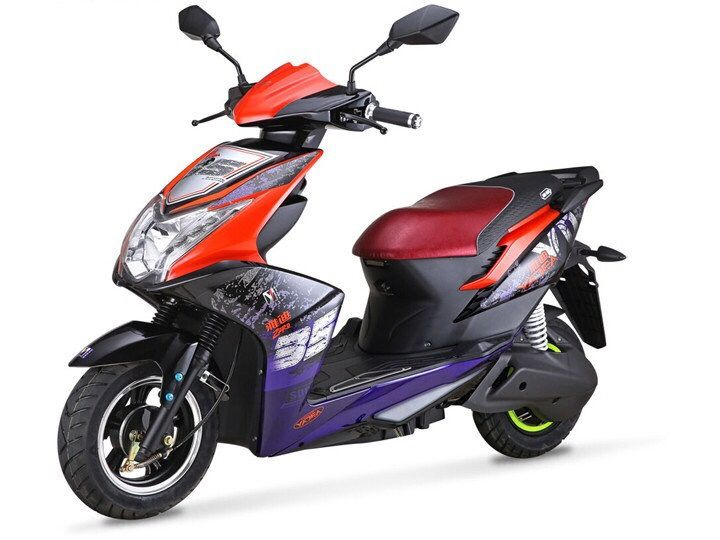电动车: (24, 1, 638, 523)
